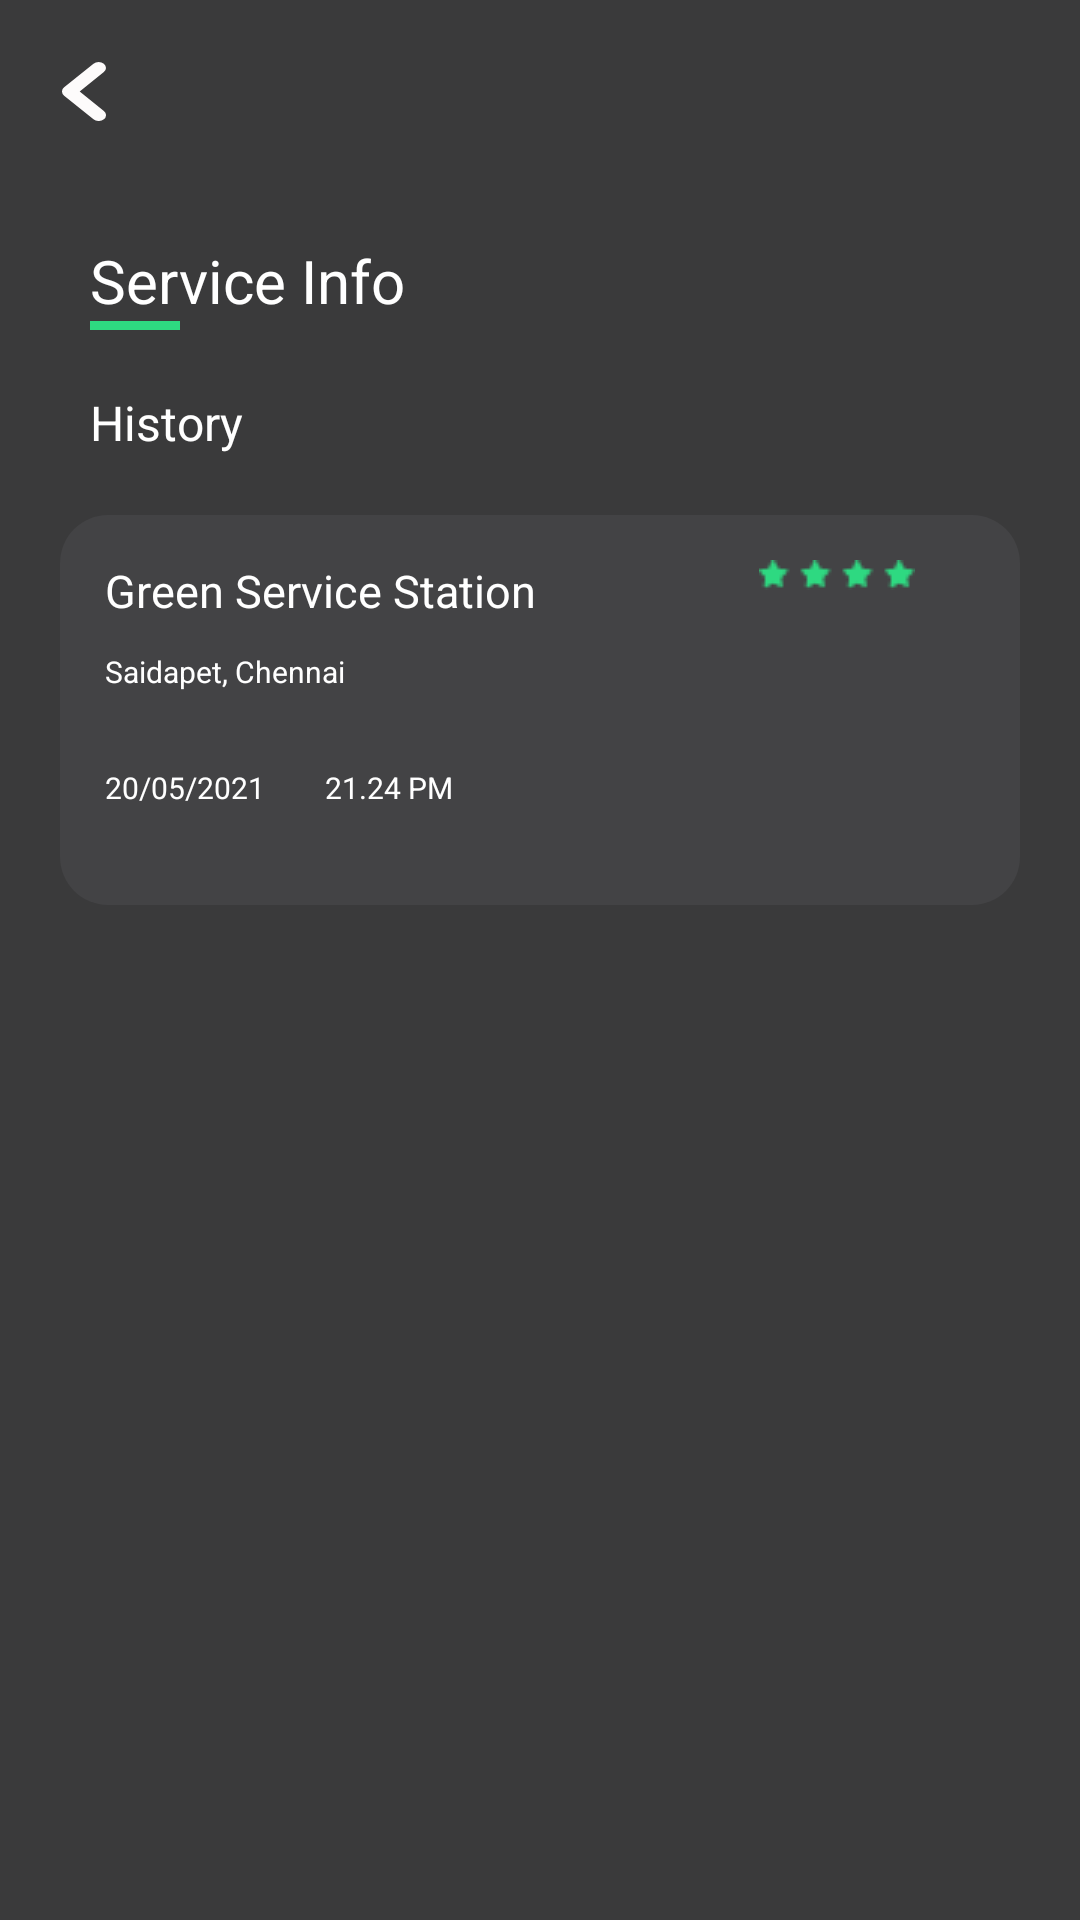

Where to tap for icons on this 1080x1920 app screen, as point (x, y):
back: point (84, 91)
rating: point (837, 574)
